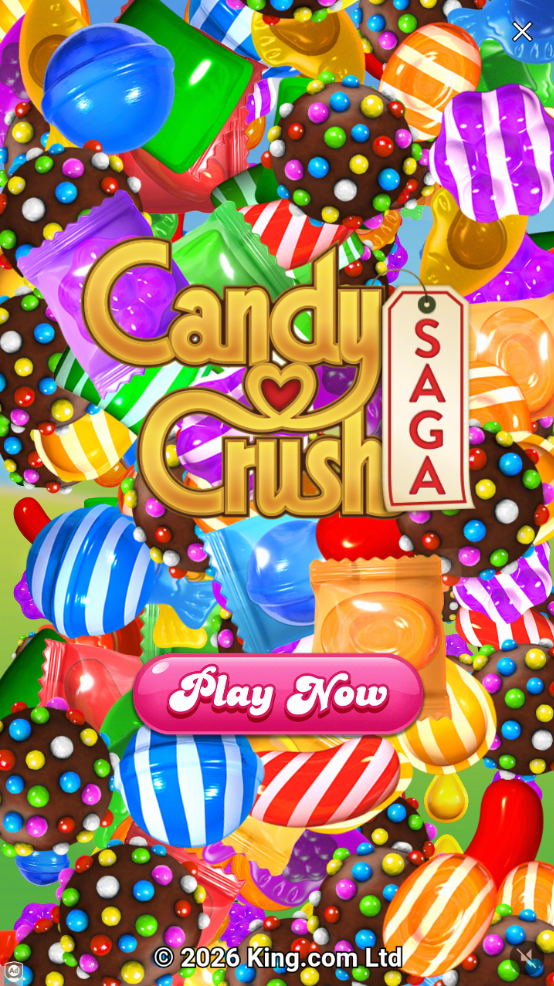close_button: (509, 16, 537, 46)
